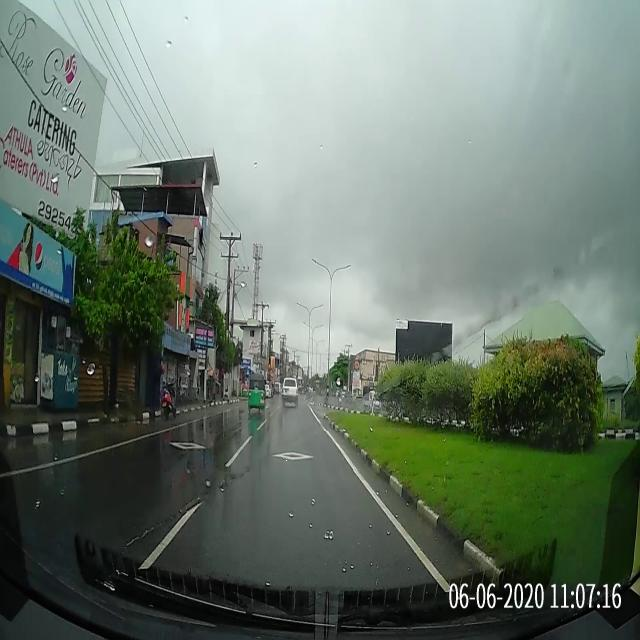diamond: (224, 431, 360, 470)
